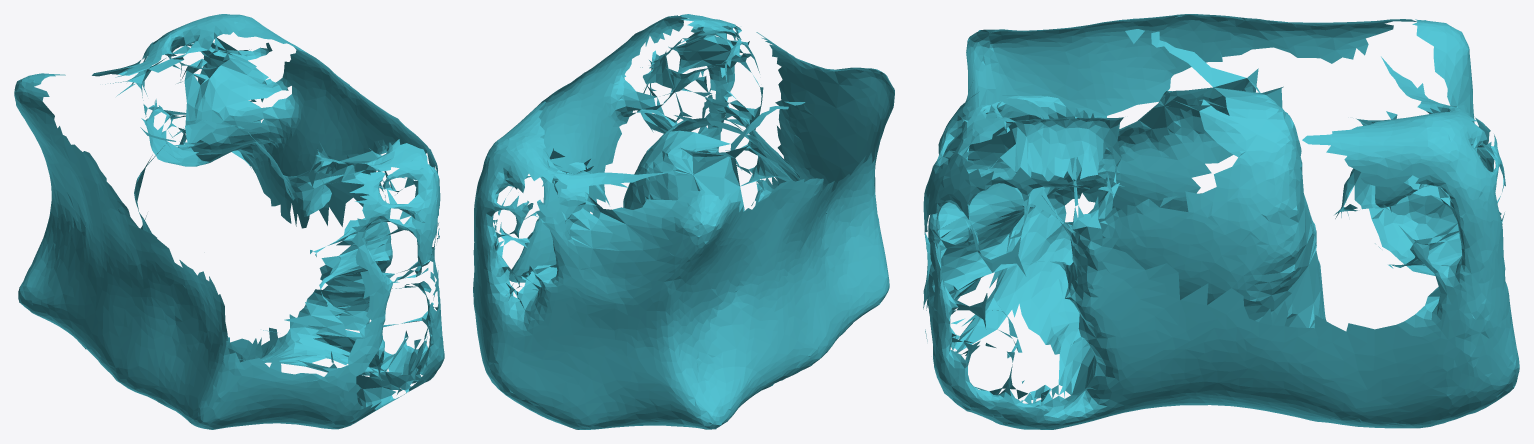
3 renders of one model, left to right at view 1: azimuth 30°, elevation 25°; view 2: azimuth 150°, elevation 25°; view 3: azimuth 270°, elevation 25°, orthographic. The views are drawn at different scales.
Parts seen in each view (by area): view 1: Renderer Node; view 2: Renderer Node; view 3: Renderer Node.
Part boxes in pixels (x1,y1,x2,y2): Renderer Node: [14, 14, 444, 429]; Renderer Node: [473, 14, 894, 429]; Renderer Node: [923, 14, 1519, 429].
Bounding box in the file's own units: 0.4235 × 0.4343 × 0.7237.
Materials: 1 (1 with a texture image).
